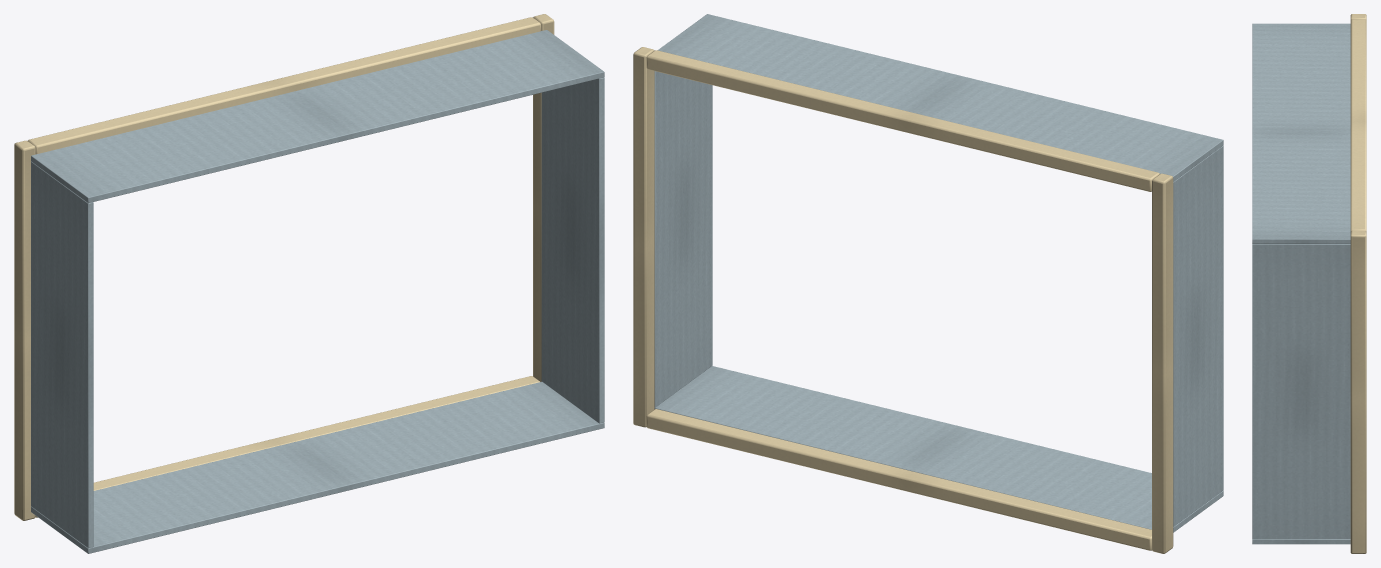
The model's file is 32-back-open-long-window-0.fbx.
3 renders of one model, left to right at view 1: azimuth 30°, elevation 25°; view 2: azimuth 150°, elevation 25°; view 3: azimuth 270°, elevation 25°, orthographic. The views are drawn at different scales.
Parts seen in each view (by area): view 1: back-open-long-window-0; view 2: back-open-long-window-0; view 3: back-open-long-window-0.
Part boxes in pixels (box(x1,y1,x2,y2)): back-open-long-window-0: box(14, 14, 604, 553); back-open-long-window-0: box(633, 14, 1223, 553); back-open-long-window-0: box(1252, 14, 1366, 553).
Bounding box in the file's own units: 4840 × 3240 × 1055.
1 material, 1 textured.
